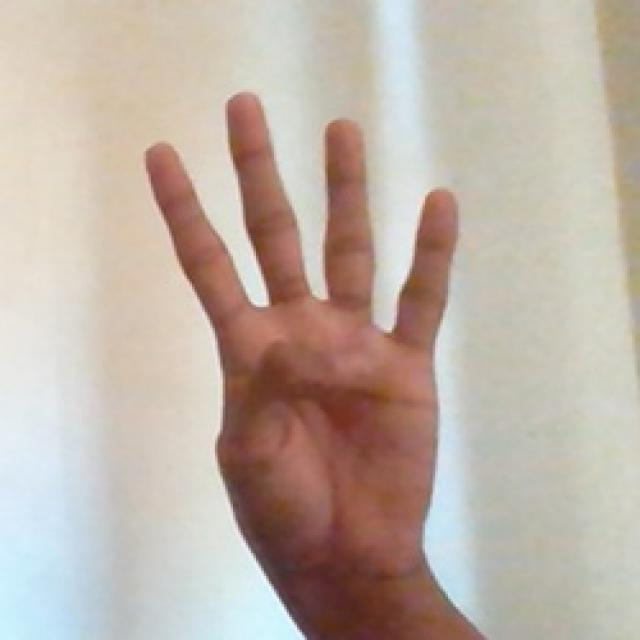Numeric-4: (153, 84, 460, 589)
